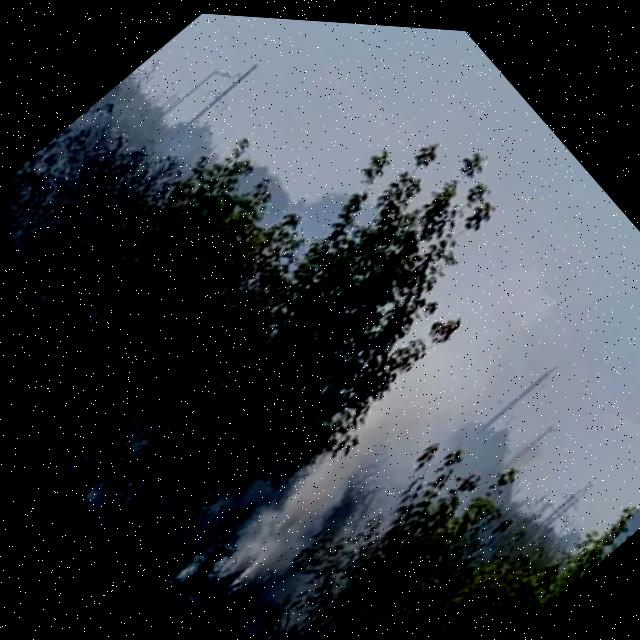Smoke: (171, 230, 602, 640)
